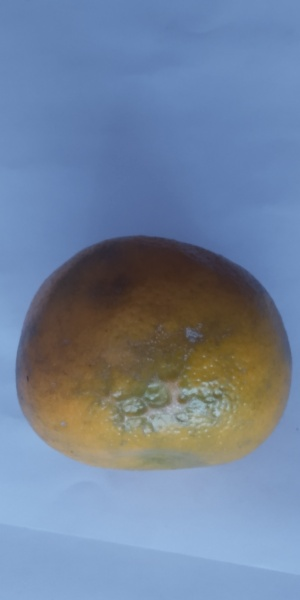BAD: (13, 237, 293, 476)
